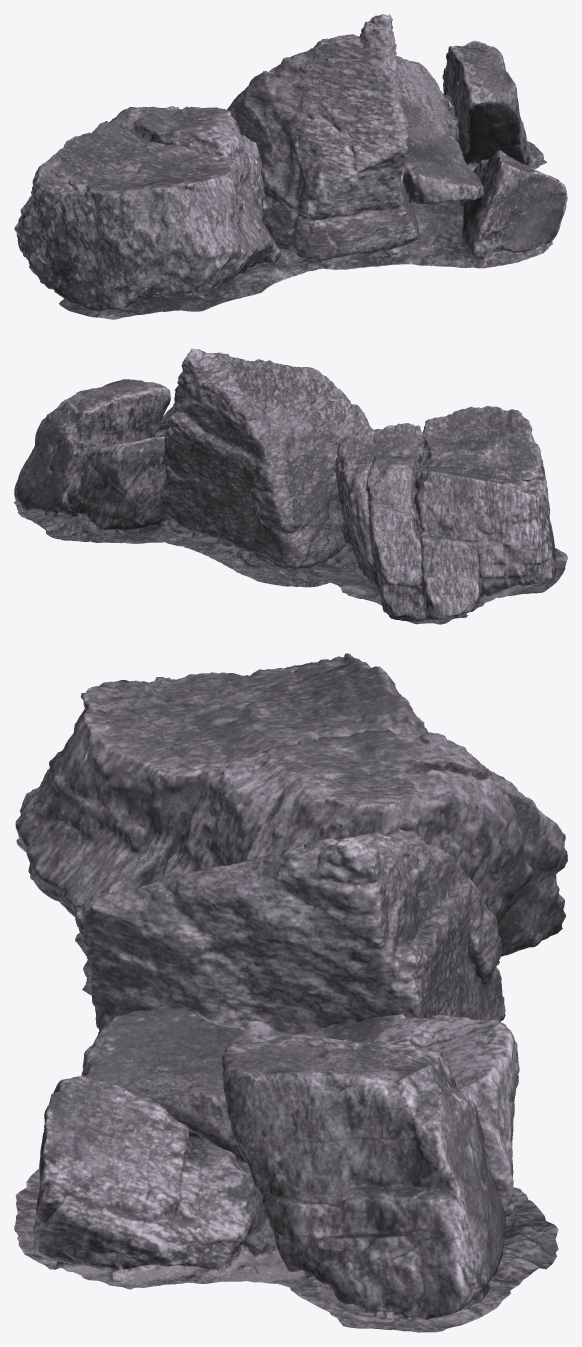
The model's file is namaqualand_boulder_02.gltf.
3 views of the same model, one above another, from view 1: azimuth 30°, elevation 25°; view 2: azimuth 150°, elevation 25°; view 3: azimuth 270°, elevation 25° (orthographic). The views are drawn at different scales.
Parts seen in each view (by area): view 1: boulder_02; view 2: boulder_02; view 3: boulder_02.
Boxes of the visible parts, x1,y1,x2,y2 form: boulder_02: (14,14,567,319); boulder_02: (14,348,567,624); boulder_02: (14,653,567,1332).
Bounding box in the file's own units: 2.53 × 0.8826 × 1.23.
Materials: 1 (1 with a texture image).
